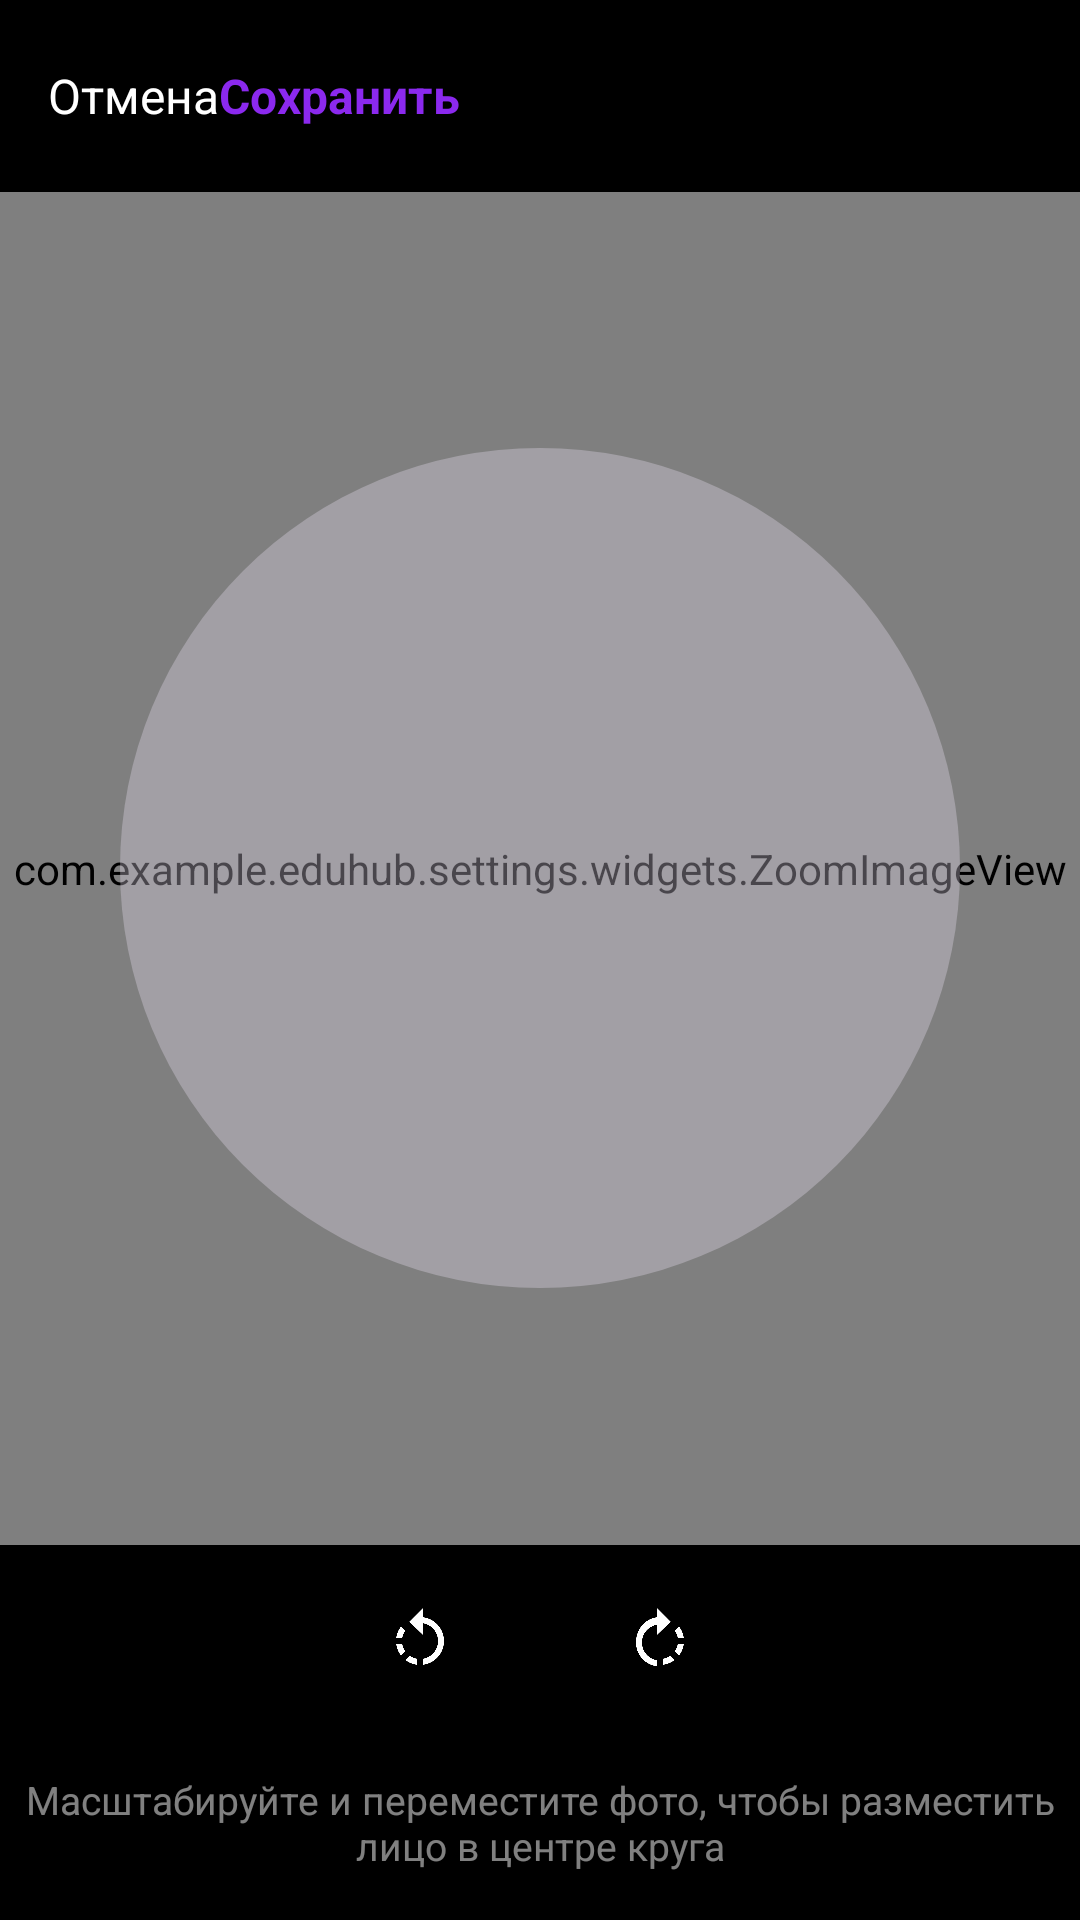

Locate icon controls on the screen. Image size 1080 × 1920, boxes as (left=x1, top=y1, right=x2, bottom=y2).
Повернуть по часовой: (left=636, top=1608, right=684, bottom=1666)
Повернуть против часовой: (left=396, top=1608, right=444, bottom=1665)
